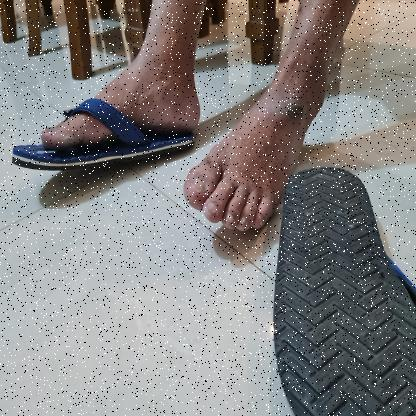leg: (179, 0, 363, 242), (7, 0, 211, 176)
